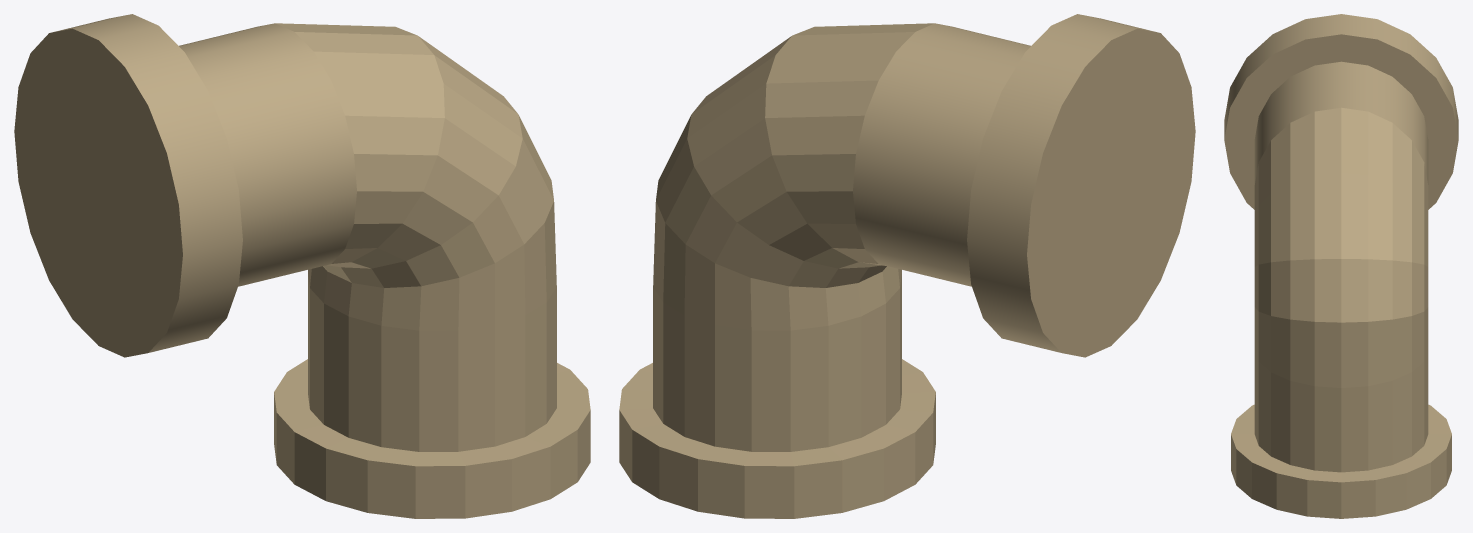
File: pipe_shape_5.fbx
The picture shows the model from 3 angles, left to right: view 1: azimuth 30°, elevation 25°; view 2: azimuth 150°, elevation 25°; view 3: azimuth 270°, elevation 25°; orthographic projection. The views are drawn at different scales.
Visible parts, largest first — view 1: pCylinder75; view 2: pCylinder75; view 3: pCylinder75.
Boxes of the visible parts, box(x1,y1,x2,y2) form: pCylinder75: box(14, 14, 590, 518); pCylinder75: box(619, 14, 1195, 518); pCylinder75: box(1224, 14, 1458, 518).
Bounding box in the file's own units: 0.4873 × 0.491 × 0.302.
